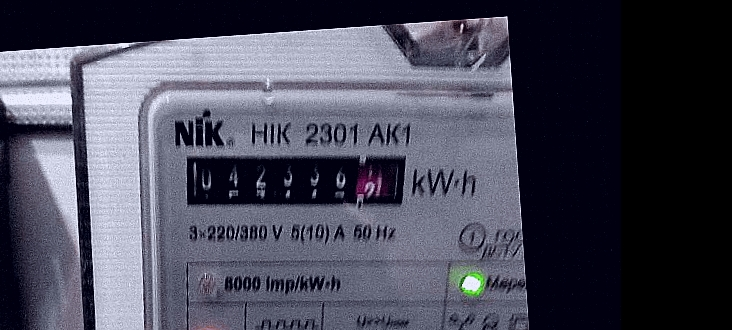0: (198, 162, 213, 192)
2: (250, 160, 270, 188)
3: (277, 158, 295, 188), (306, 157, 322, 186)
4: (224, 161, 242, 189)
6: (331, 161, 348, 189)
screen: (172, 131, 417, 228)
